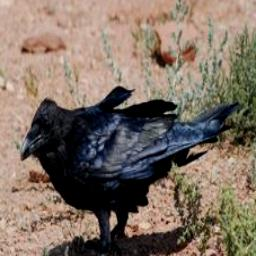Crow: (19, 84, 244, 256)
